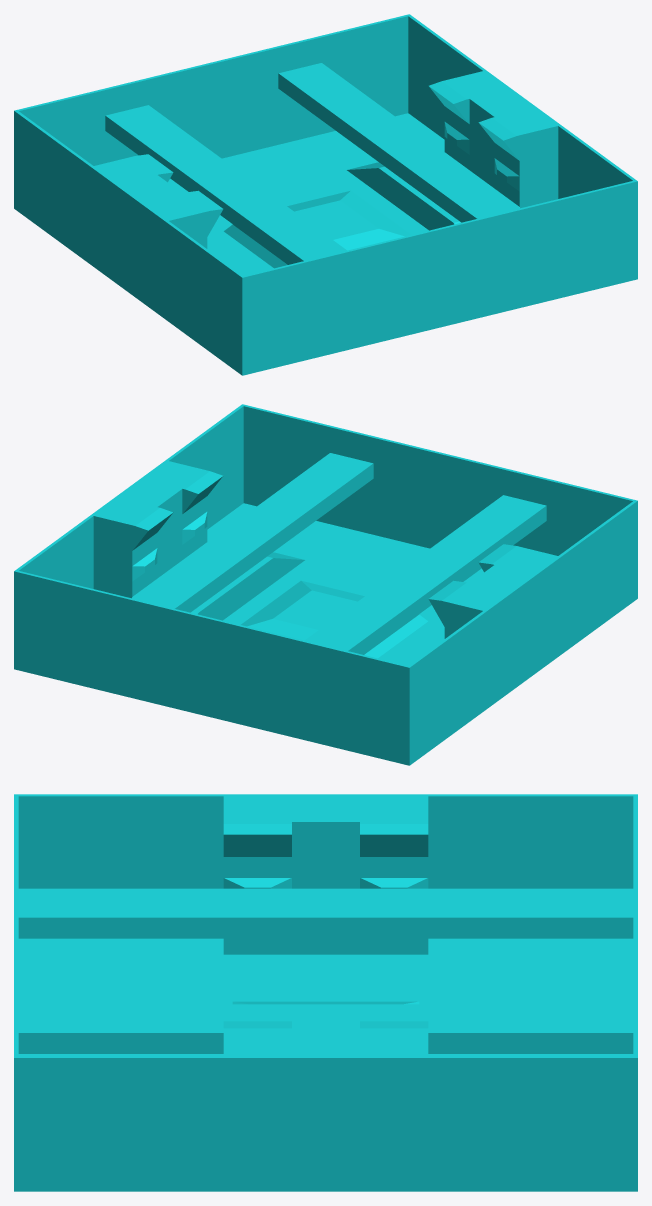
File: BaseMap.fbx
3 views of the same model, one above another, from view 1: azimuth 30°, elevation 25°; view 2: azimuth 150°, elevation 25°; view 3: azimuth 270°, elevation 25° (orthographic). The views are drawn at different scales.
Visible parts, largest first — view 1: Cube.565; view 2: Cube.565; view 3: Cube.565.
Boxes of the visible parts, x1,y1,x2,y2 form: Cube.565: (14, 14, 637, 375); Cube.565: (14, 404, 637, 765); Cube.565: (14, 794, 637, 1191).
Bounding box in the file's own units: 12809 × 3031 × 12809.
